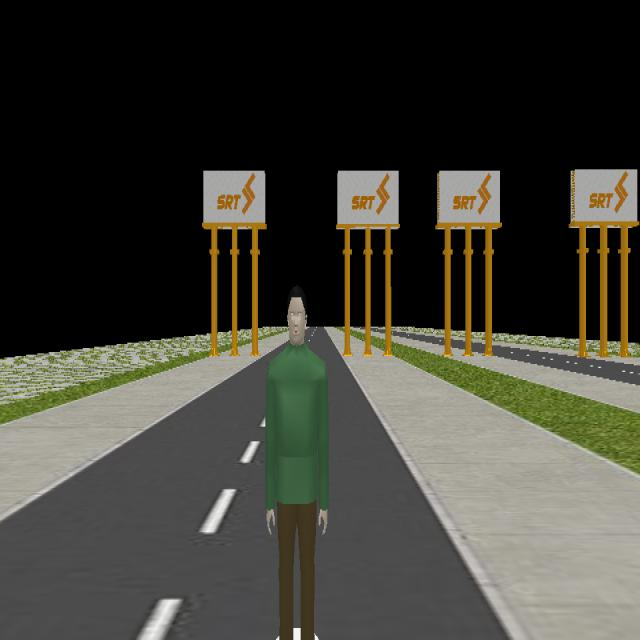human: (265, 293, 328, 640)
